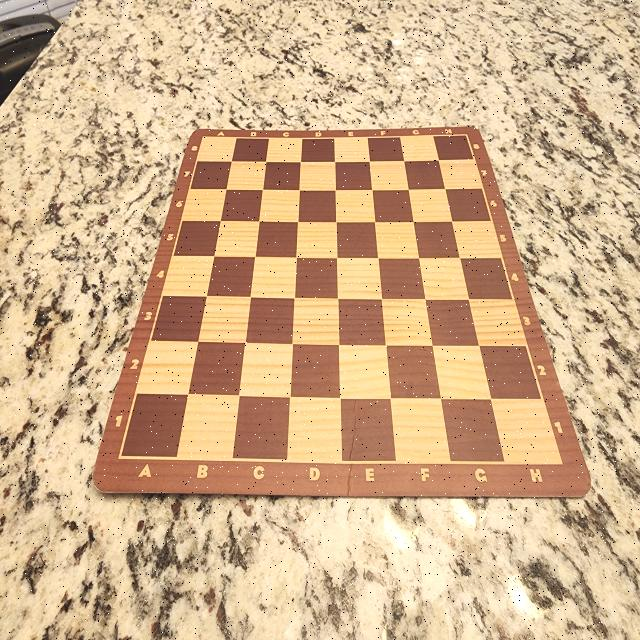Bottom-Left: (119, 394, 188, 458)
Bottom-Right: (491, 400, 562, 464)
Top-Left: (203, 136, 232, 161)
Top-Right: (439, 134, 467, 160)
